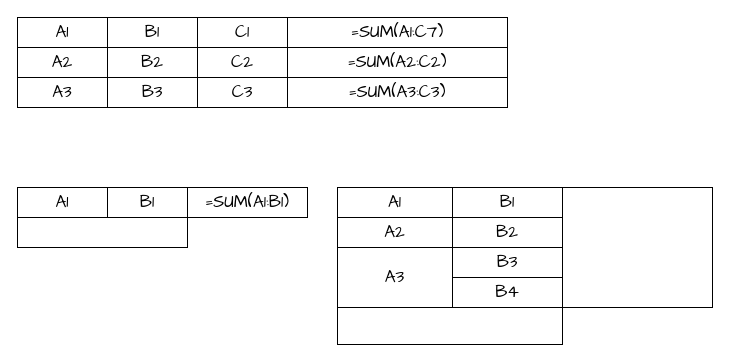
This 730x362 diagram has some shape labels left out. Each missing label, with the centre of its shape:
"=A1+B1" belongs at point 102,232.
"=A1:A4+B1:B4" belongs at point 449,325.
"=SUM(A1:B4)" belongs at point 637,247.
